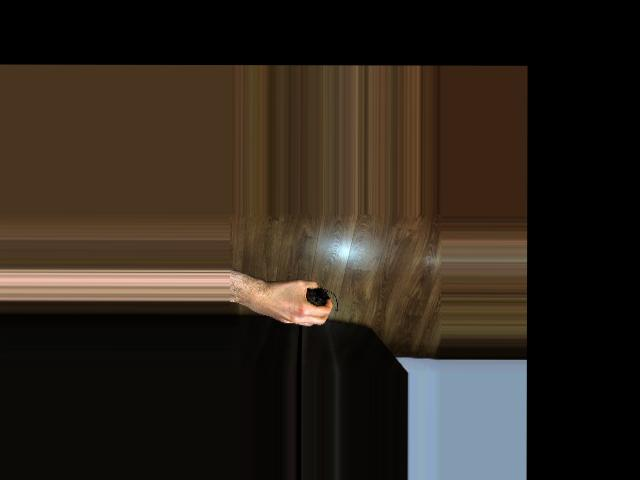beet: (306, 287, 339, 311)
